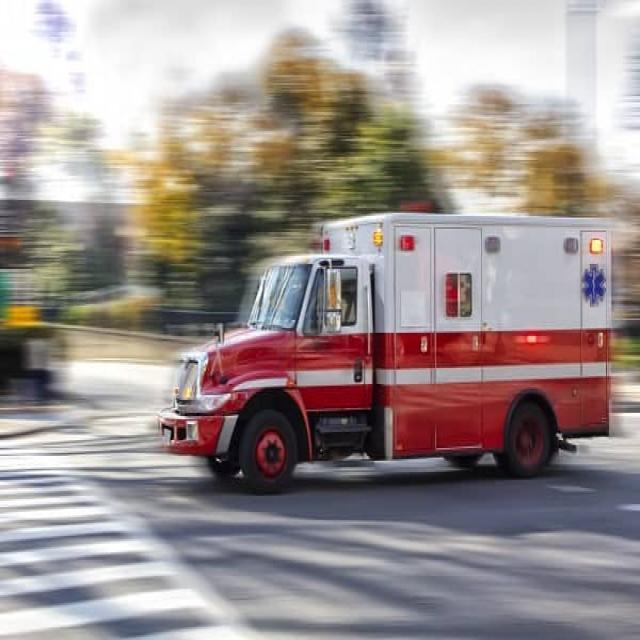emergency-vehicle: (161, 196, 618, 499)
